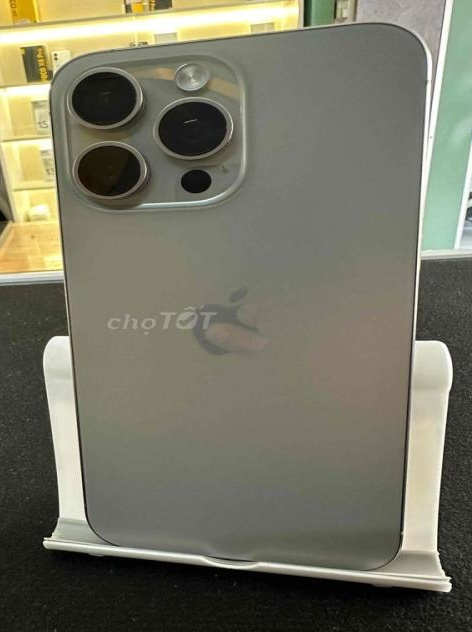scratch: (165, 162, 246, 206)
